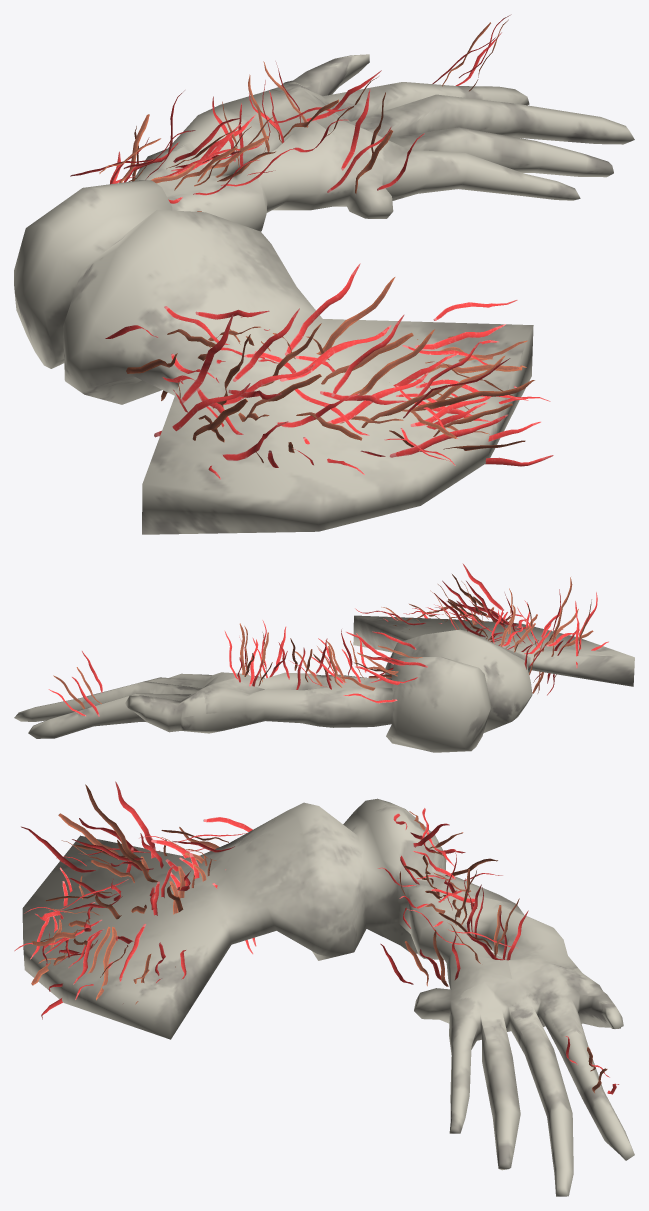
The model's file is bowheadWhaleSkele01b.fbx.
The picture shows the model from 3 angles, top to bottom: view 1: azimuth 30°, elevation 25°; view 2: azimuth 150°, elevation 25°; view 3: azimuth 270°, elevation 25°; orthographic projection. The views are drawn at different scales.
Parts seen in each view (by area): view 1: bowheadWhaleSkel_pose.012; view 2: bowheadWhaleSkel_pose.012; view 3: bowheadWhaleSkel_pose.012.
Part boxes in pixels (x1=…): bowheadWhaleSkel_pose.012: x1=14, y1=14, x2=634, y2=534; bowheadWhaleSkel_pose.012: x1=14, y1=563, x2=634, y2=752; bowheadWhaleSkel_pose.012: x1=14, y1=781, x2=634, y2=1196.
Size of the model in its own units: 639 by 178 by 553.
